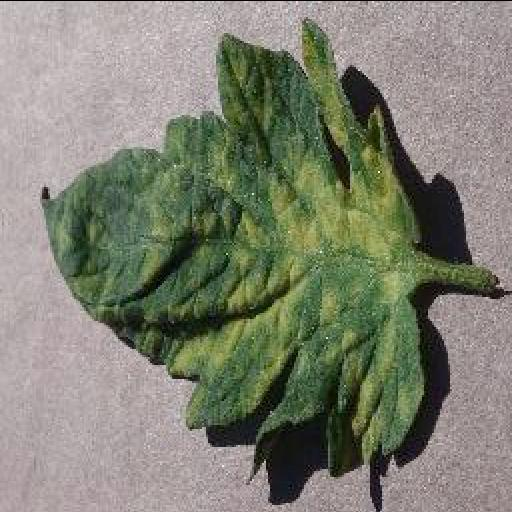disease_tomato: (38, 14, 426, 480)
